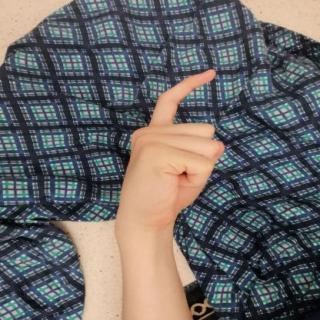RAA: (108, 60, 232, 228)
